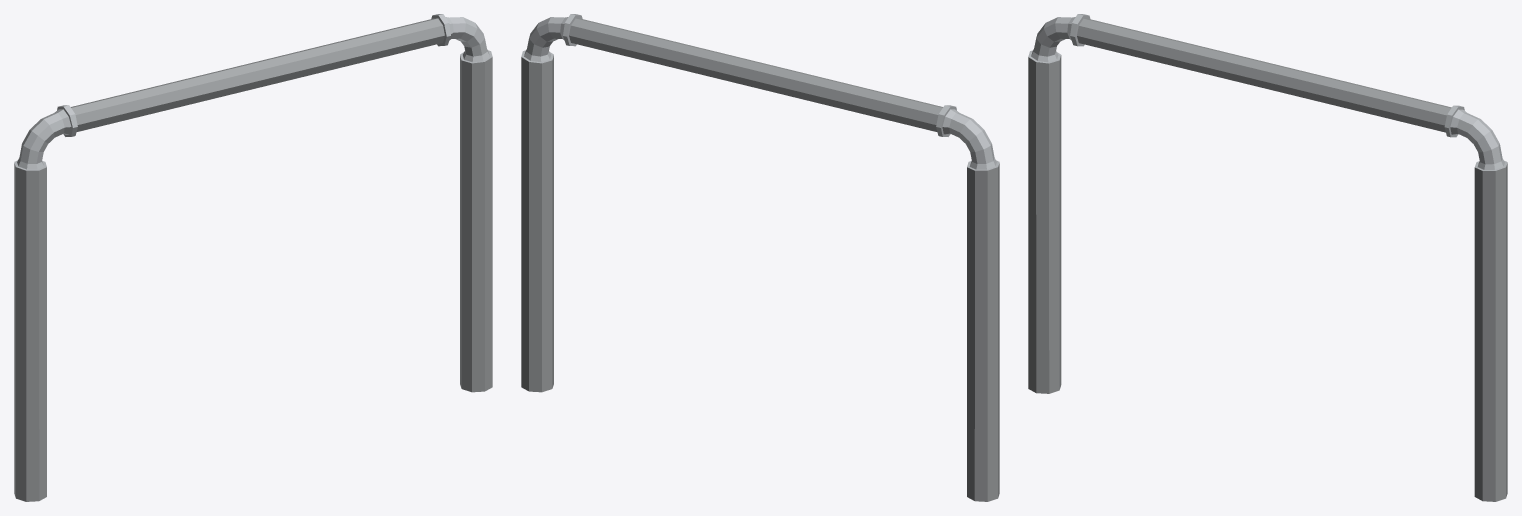
The model's file is SM_pipe_entrance.fbx.
3 views of the same model, side by side, from view 1: azimuth 30°, elevation 25°; view 2: azimuth 150°, elevation 25°; view 3: azimuth 330°, elevation 25° (orthographic).
Visible parts, largest first — view 1: Line003; view 2: Line003; view 3: Line003.
Boxes of the visible parts, <box> form: Line003: <box>14,14,492,501</box>; Line003: <box>521,14,999,501</box>; Line003: <box>1028,14,1507,501</box>.
Bounding box in the file's own units: 185 × 11.52 × 142.
